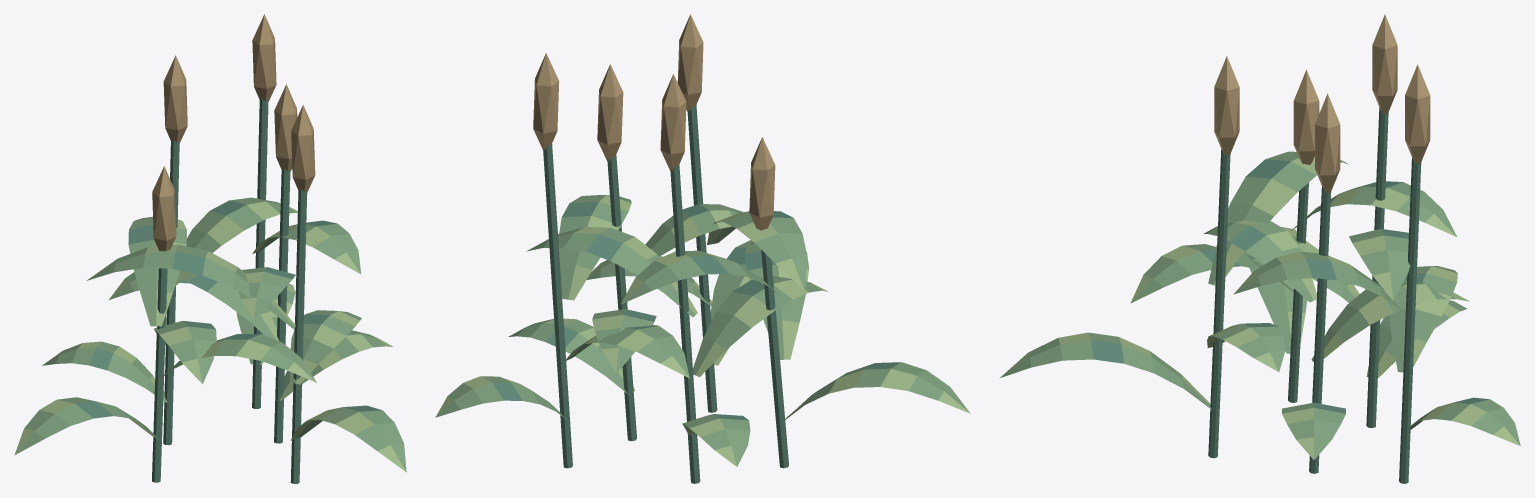
The model's file is reed_patch_lod1.glb.
The picture shows the model from 3 angles, left to right: view 1: azimuth 30°, elevation 25°; view 2: azimuth 150°, elevation 25°; view 3: azimuth 270°, elevation 25°; orthographic projection. The views are drawn at different scales.
Parts seen in each view (by area): view 1: Curved reed leaf.008, Curved reed leaf.005, Curved reed leaf.006, Curved reed leaf.012, Reed stem.002, Curved reed leaf.014, Curved reed leaf.003, Curved reed leaf.013, Curved reed leaf.007, Curved reed leaf.004, Curved reed leaf.011, Reed stem (+12 smaller); view 2: Curved reed leaf.004, Curved reed leaf.008, Reed stem.003, Curved reed leaf.012, Curved reed leaf.011, Curved reed leaf.005, Curved reed leaf.014, Reed stem.001, Curved reed leaf.010, Curved reed leaf, Curved reed leaf.009, Reed stem.002 (+13 smaller); view 3: Curved reed leaf.008, Curved reed leaf.006, Reed stem.003, Curved reed leaf.011, Reed stem.002, Curved reed leaf.010, Curved reed leaf.001, Curved reed leaf.005, Curved reed leaf.002, Curved reed leaf.013, Curved reed leaf.014, Curved reed leaf.009 (+13 smaller).
Boxes of the visible parts, box(x1,y1,x2,y2) form: Curved reed leaf.008: box(86, 244, 295, 329); Curved reed leaf.005: box(175, 197, 297, 286); Curved reed leaf.006: box(290, 405, 406, 472); Curved reed leaf.012: box(14, 397, 159, 455); Reed stem.002: box(290, 189, 307, 483); Curved reed leaf.014: box(128, 216, 186, 326); Curved reed leaf.003: box(42, 341, 166, 402); Curved reed leaf.013: box(156, 334, 316, 382); Curved reed leaf.007: box(290, 310, 361, 384); Curved reed leaf.004: box(154, 321, 216, 384); Curved reed leaf.011: box(252, 220, 361, 274); Reed stem: box(274, 168, 290, 443); Curved reed leaf.004: box(693, 276, 828, 377); Curved reed leaf.008: box(707, 211, 807, 290); Reed stem.003: box(543, 144, 572, 468); Curved reed leaf.012: box(783, 362, 970, 421); Curved reed leaf.011: box(559, 195, 631, 300); Curved reed leaf.005: box(526, 227, 697, 317); Curved reed leaf.014: box(620, 250, 784, 304); Reed stem.001: box(670, 165, 700, 483); Curved reed leaf.010: box(564, 325, 689, 378); Curved reed leaf: box(508, 318, 635, 393); Curved reed leaf.009: box(435, 376, 568, 420); Reed stem.002: box(687, 105, 717, 412); Curved reed leaf.008: box(1208, 151, 1348, 285); Curved reed leaf.006: box(999, 332, 1211, 409); Reed stem.003: box(1399, 157, 1421, 483); Curved reed leaf.011: box(1233, 251, 1404, 312); Reed stem.002: box(1208, 149, 1230, 458); Curved reed leaf.010: box(1389, 265, 1457, 372); Curved reed leaf.001: box(1311, 280, 1469, 361); Curved reed leaf.005: box(1349, 229, 1410, 300); Curved reed leaf.002: box(1203, 220, 1316, 302); Curved reed leaf.013: box(1130, 244, 1293, 303); Curved reed leaf.014: box(1291, 181, 1457, 237); Curved reed leaf.009: box(1401, 397, 1520, 445).
Bounding box in the file's own units: 1.14 × 1.03 × 1.15.
